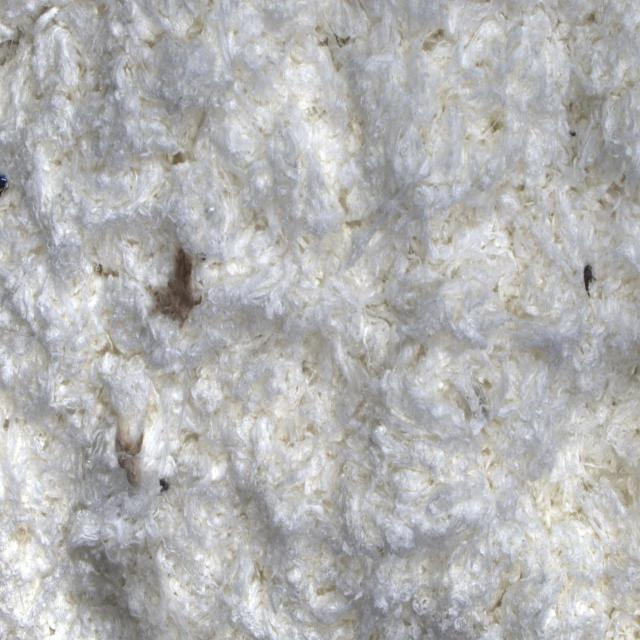dust: (138, 249, 210, 330), (112, 411, 146, 492), (574, 251, 604, 307), (0, 143, 17, 230), (153, 460, 177, 505)
